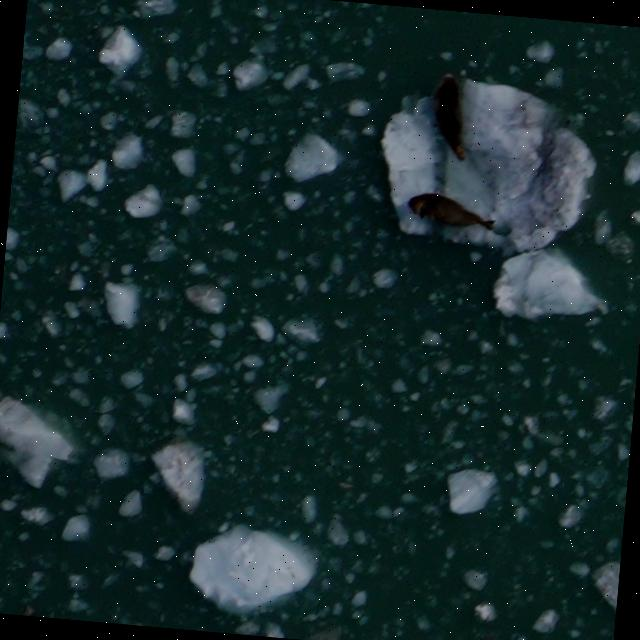seal: (421, 68, 477, 165), (400, 189, 504, 234)
